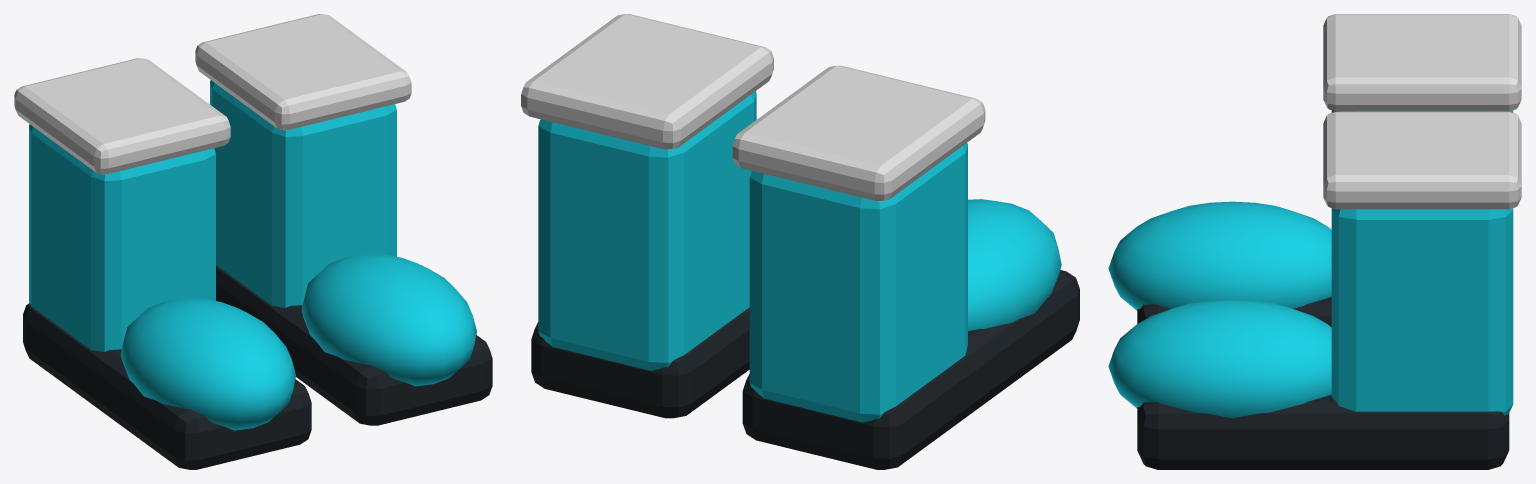
The model's file is item-boot-0.glb.
3 views of the same model, side by side, from view 1: azimuth 30°, elevation 25°; view 2: azimuth 150°, elevation 25°; view 3: azimuth 270°, elevation 25° (orthographic). The views are drawn at different scales.
Visible parts, largest first — view 1: item-boot-0; view 2: item-boot-0; view 3: item-boot-0.
Boxes of the visible parts, x1=… form: item-boot-0: x1=14, y1=14, x2=492, y2=469; item-boot-0: x1=521, y1=14, x2=1079, y2=469; item-boot-0: x1=1108, y1=14, x2=1521, y2=469.
Size of the model in its own units: 0.49 by 0.3975 by 0.5.
